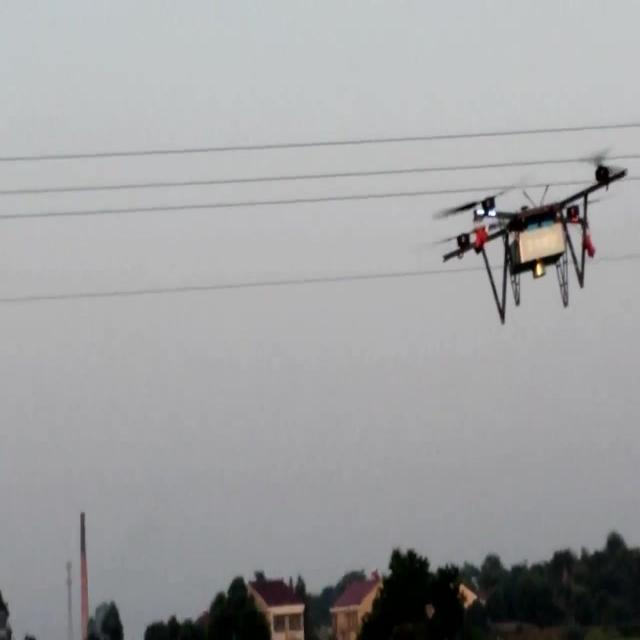drone: (432, 154, 628, 328)
